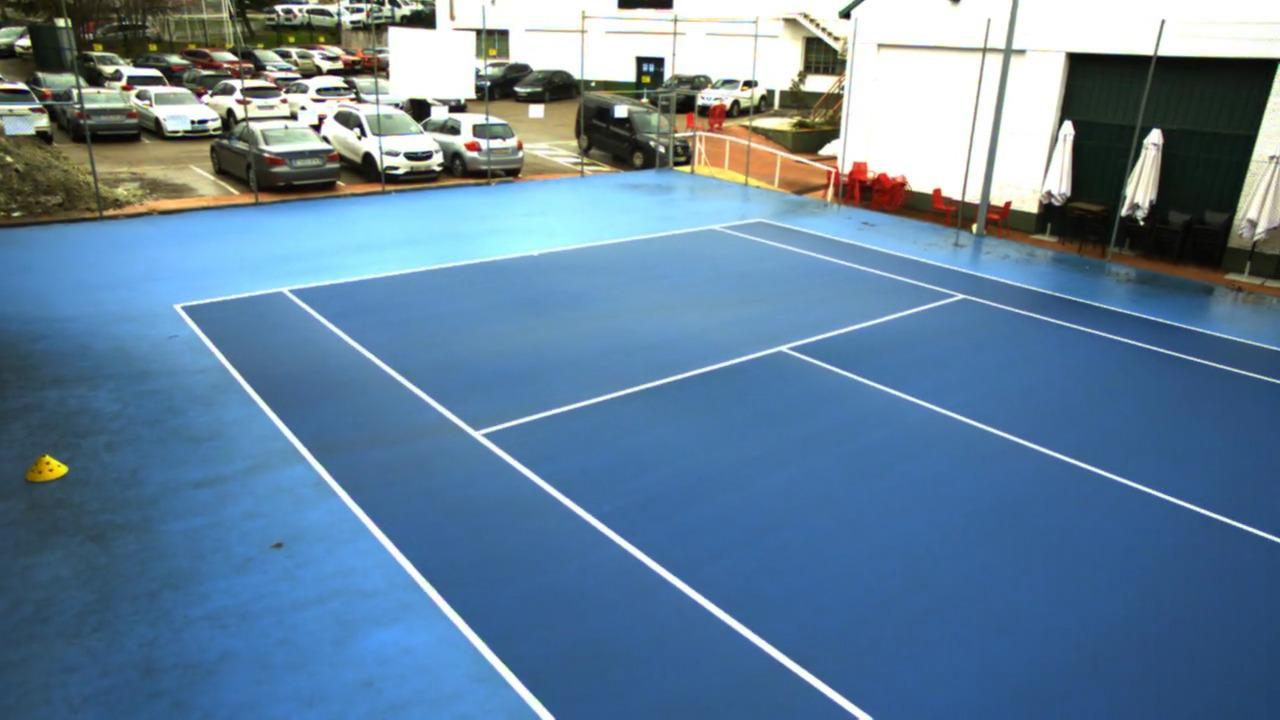cancha_tenis: (283, 225, 1280, 720)
point_f1: (270, 278, 301, 302)
point_f2: (699, 217, 735, 242)
point_fc1: (526, 249, 545, 263)
point_i1: (457, 421, 500, 448)
point_i2: (942, 284, 974, 309)
point_ic1: (769, 335, 804, 360)
